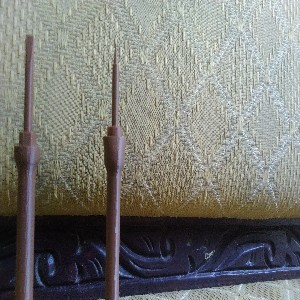obeng: (14, 33, 41, 300)
solder: (102, 39, 127, 300)
